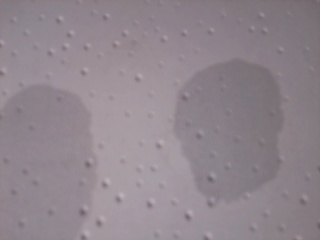Water_detected: (6, 107, 104, 231), (191, 81, 259, 179)
